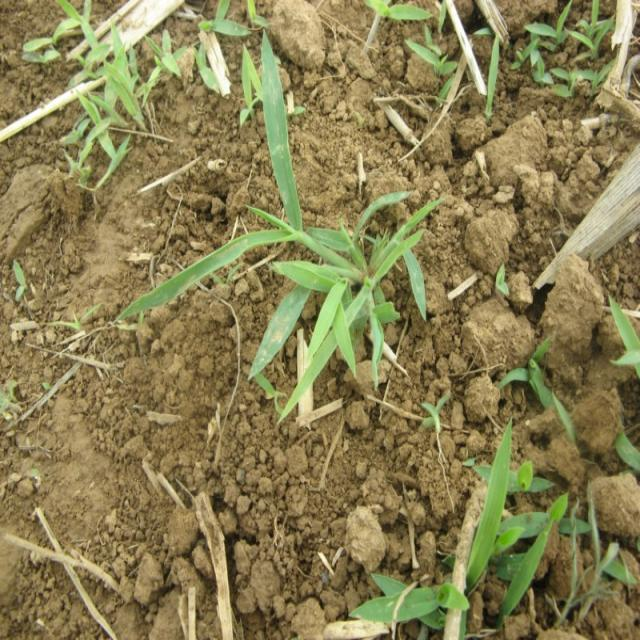bg: (122, 36, 436, 423)
